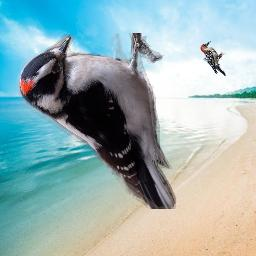Woodpecker: (16, 33, 177, 209), (200, 41, 226, 76)
